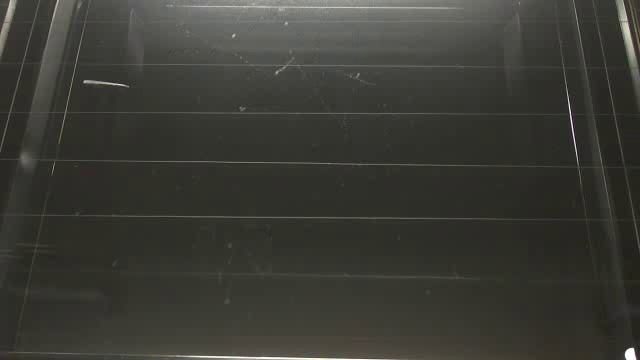Alfa: (80, 78, 130, 90)
